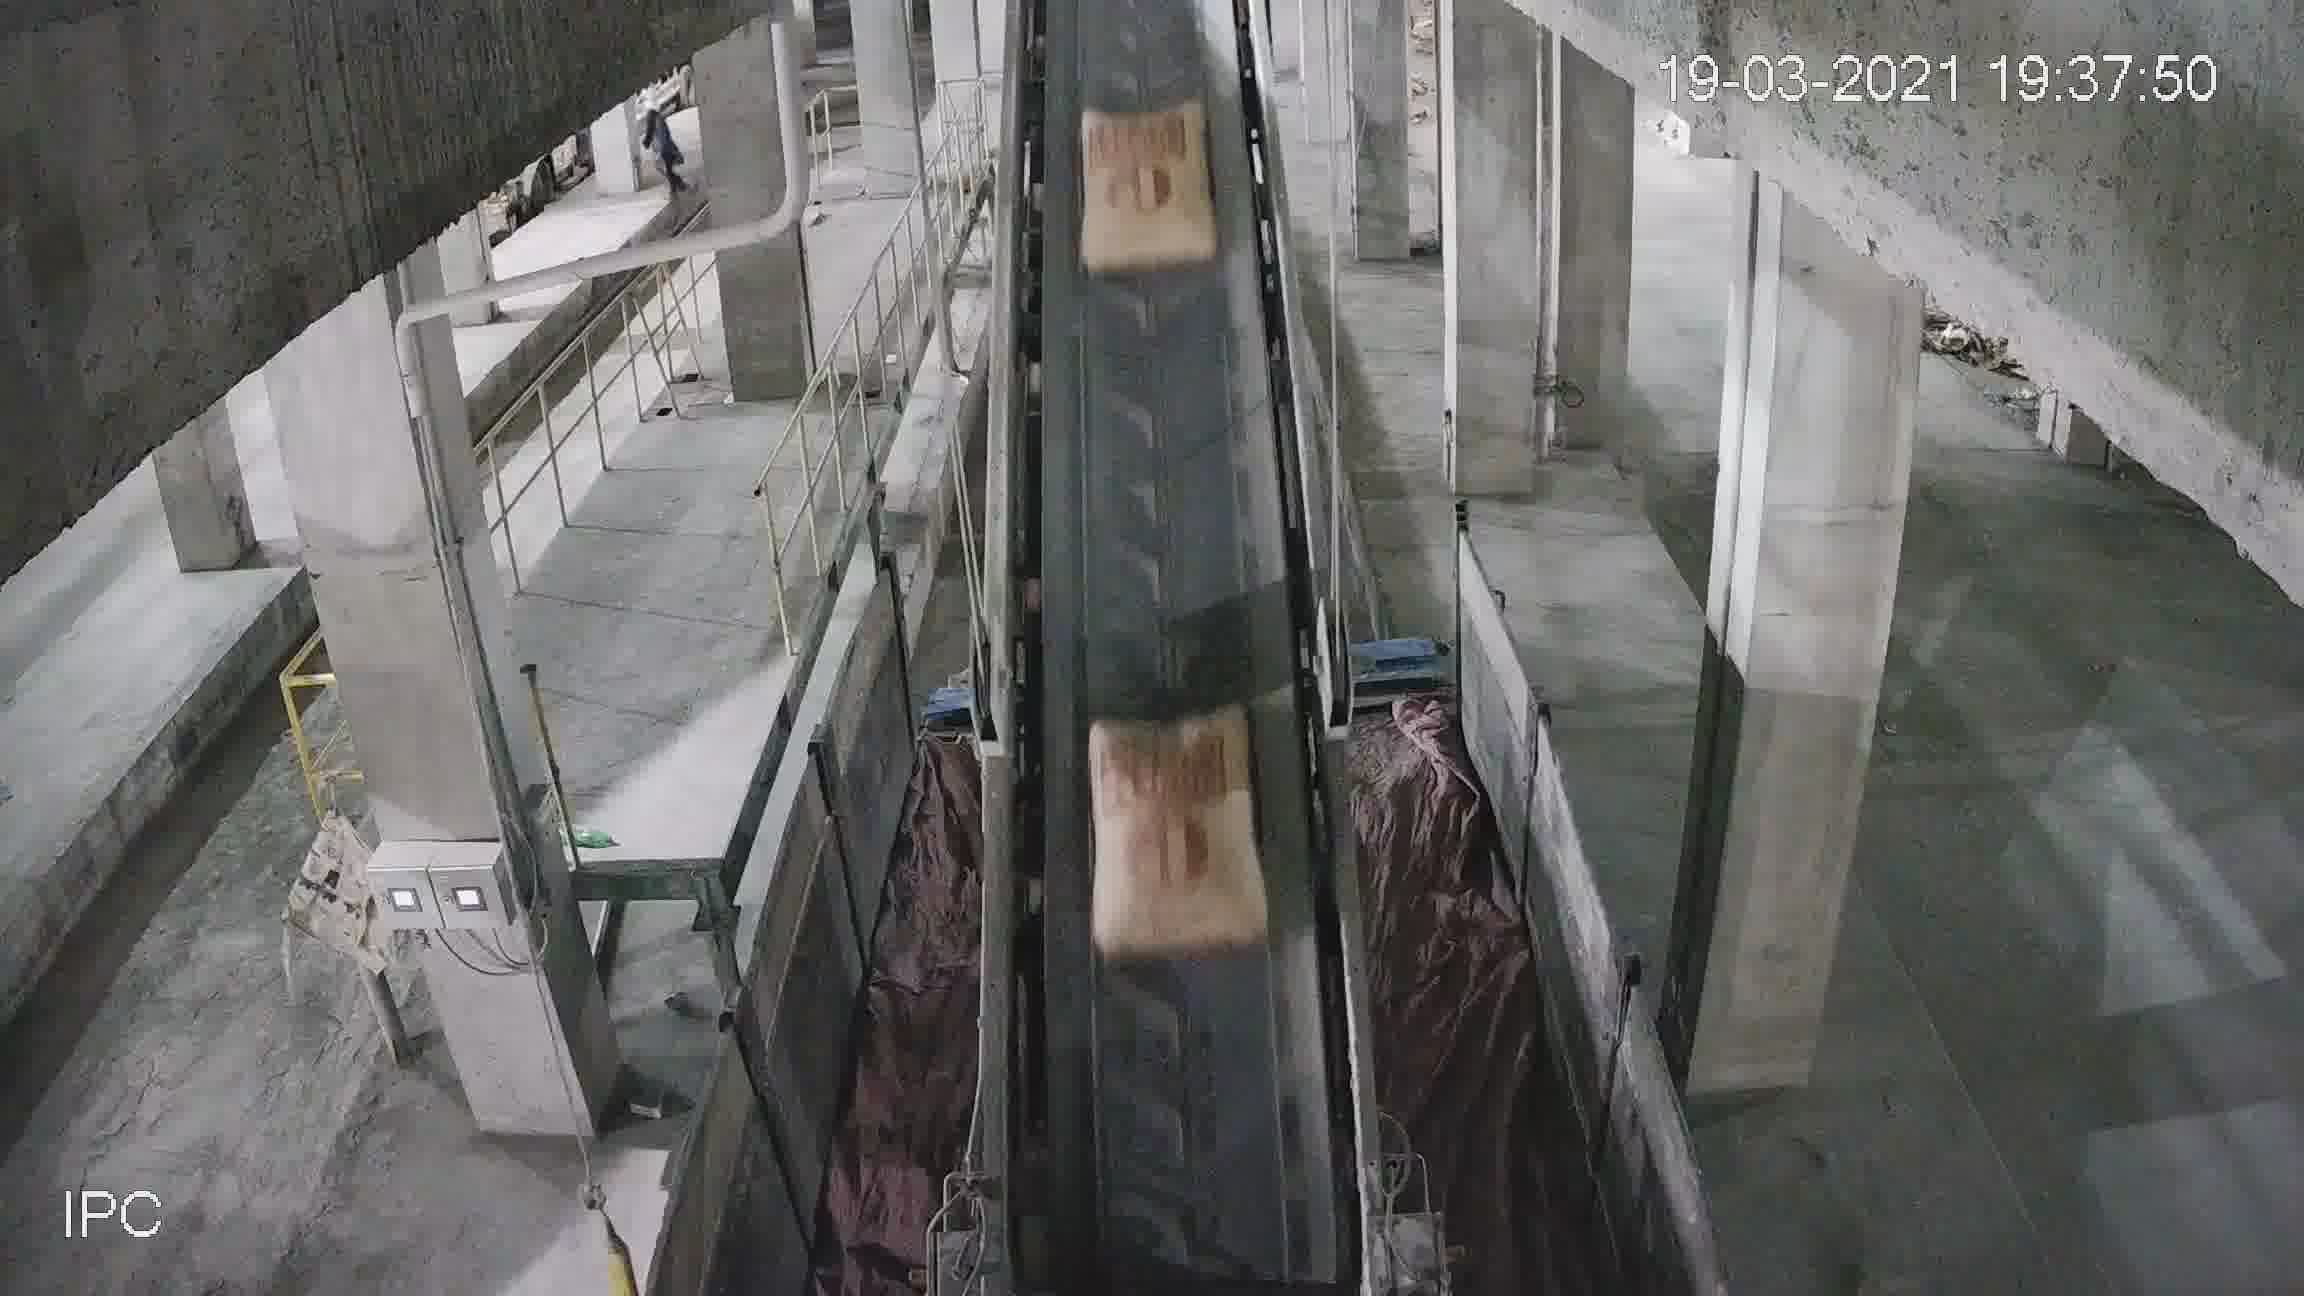bag: (1093, 699, 1266, 957), (1079, 108, 1215, 274)
belt: (992, 51, 1342, 1163)
